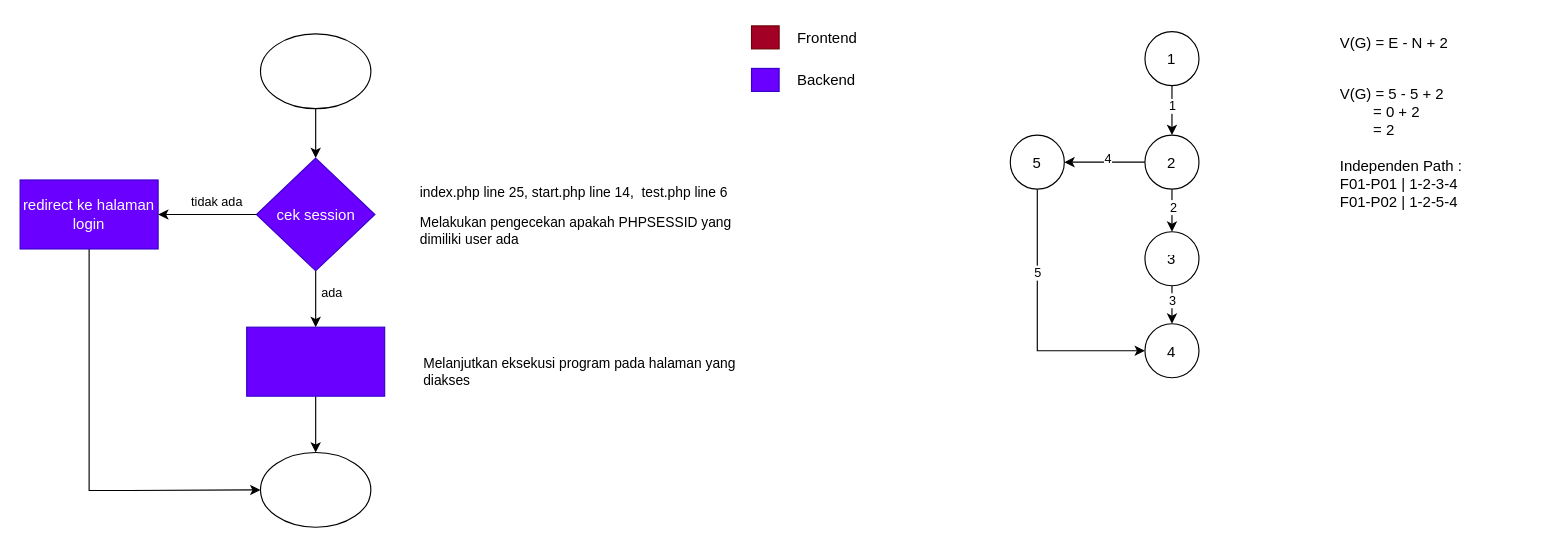
Some shapes in this 1556 by 547 pixel diagram are drawn without their labels. The centre of each missing label's shape, as x and y in pixels:
melanjutkan eksekusi halaman: (315,361)
Mulai: (315,71)
Selesai: (315,489)
